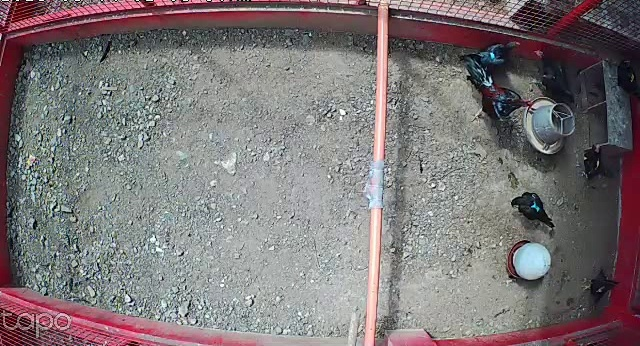Chicken: (529, 45, 576, 105), (577, 264, 624, 309), (509, 188, 557, 229), (605, 57, 640, 108), (579, 138, 619, 182), (477, 37, 522, 67)
Rooster: (455, 51, 535, 126)
Saddle_Color_Blue: (490, 53, 496, 60)
Saddle_Color_Yellow: (596, 158, 601, 169)
